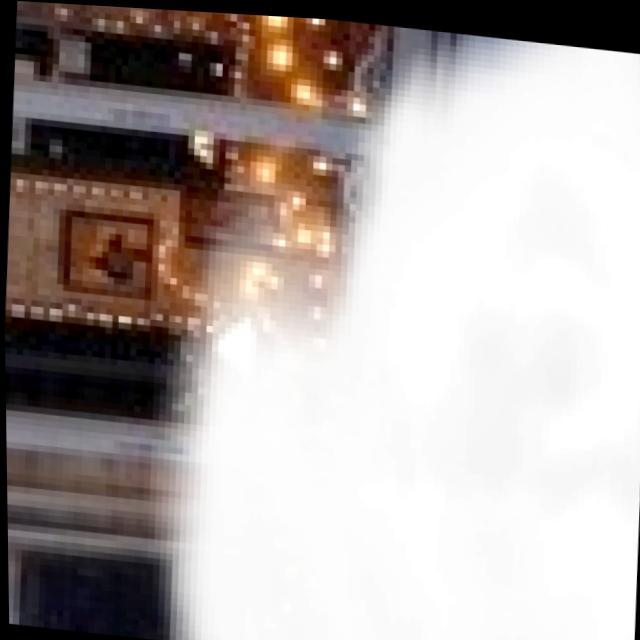smoke: (134, 6, 640, 640)
